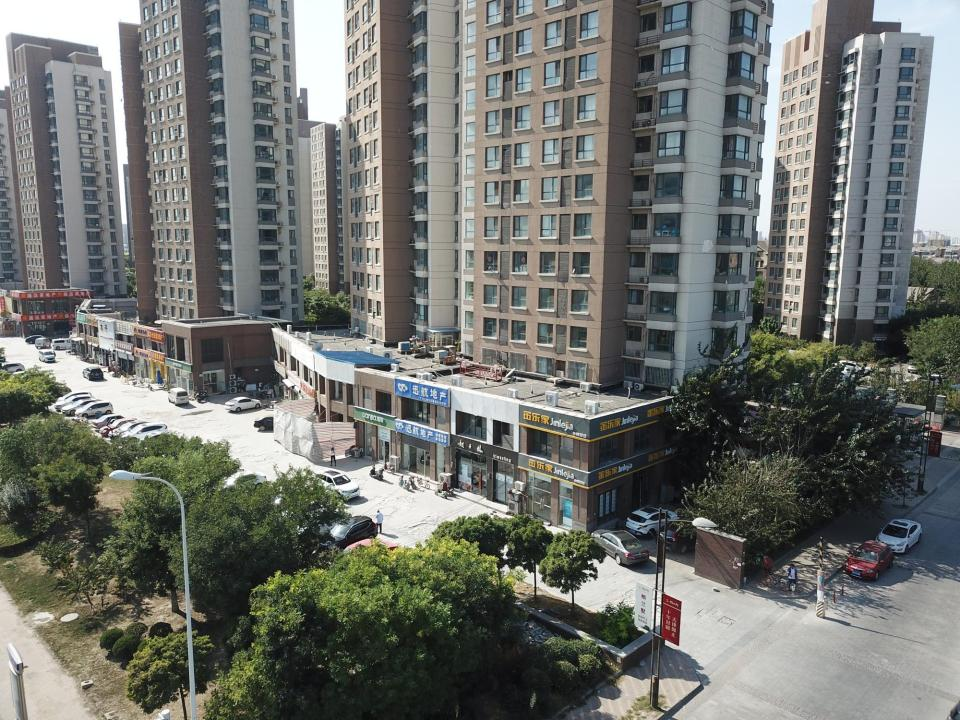car: (844, 538, 896, 583), (588, 528, 649, 565), (320, 514, 378, 548), (659, 520, 709, 556), (877, 516, 925, 552), (626, 506, 679, 538), (343, 537, 397, 564), (314, 469, 360, 500), (130, 432, 177, 451), (120, 423, 169, 441), (61, 398, 104, 418), (108, 421, 152, 439), (54, 394, 96, 412), (100, 418, 142, 435), (74, 401, 114, 417), (224, 397, 262, 412), (92, 414, 126, 430), (58, 390, 92, 404), (253, 415, 277, 432), (82, 367, 103, 382), (1, 361, 26, 372), (38, 348, 56, 363), (51, 338, 73, 350), (34, 336, 51, 347), (25, 335, 45, 344)
van: (168, 387, 189, 405)
